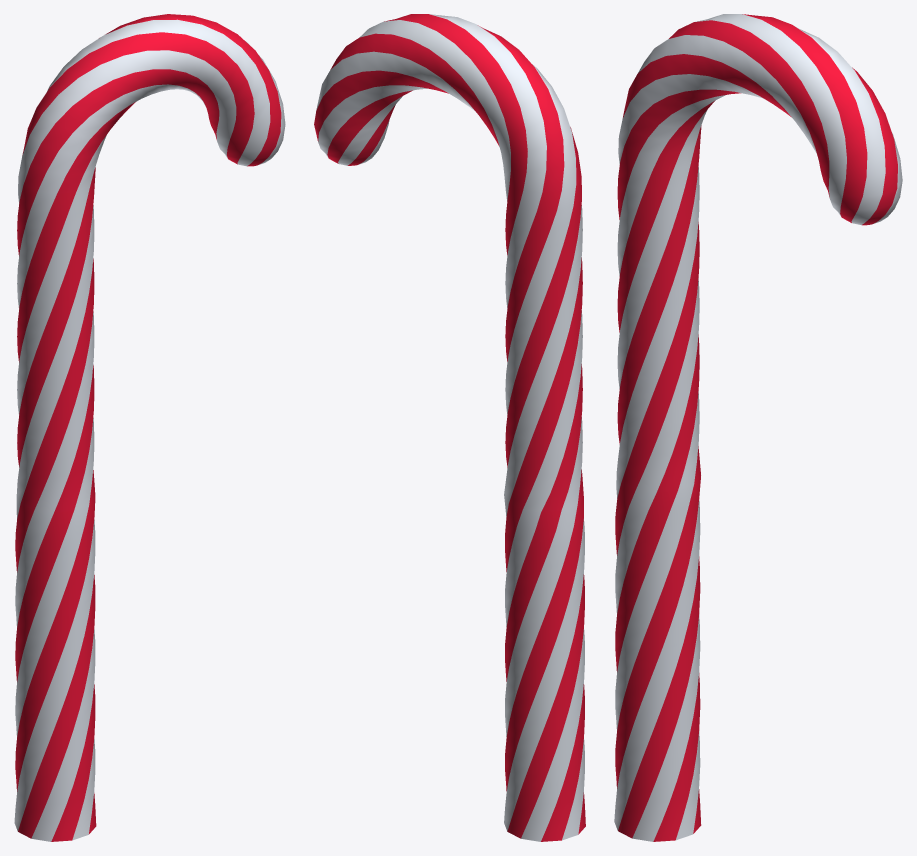
Rendered from caramel_cane_001.glb.
The picture shows the model from 3 angles, left to right: view 1: azimuth 30°, elevation 25°; view 2: azimuth 150°, elevation 25°; view 3: azimuth 330°, elevation 25°; orthographic projection. The views are drawn at different scales.
Visible parts, largest first — view 1: caramel_cane_001; view 2: caramel_cane_001; view 3: caramel_cane_001.
Boxes of the visible parts, box(x1,y1,x2,y2) form: caramel_cane_001: box(14, 14, 285, 841); caramel_cane_001: box(314, 14, 585, 841); caramel_cane_001: box(614, 14, 902, 841).
Bounding box in the file's own units: 3.56 × 10.18 × 0.9669.
1 material, 1 textured.
